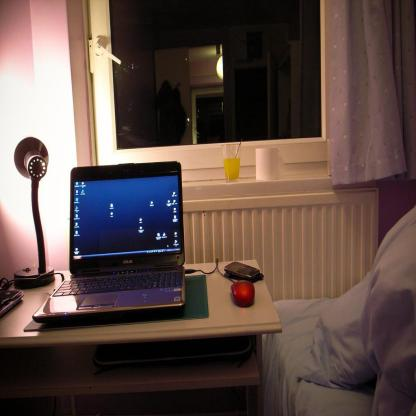board: (38, 157, 184, 327)
